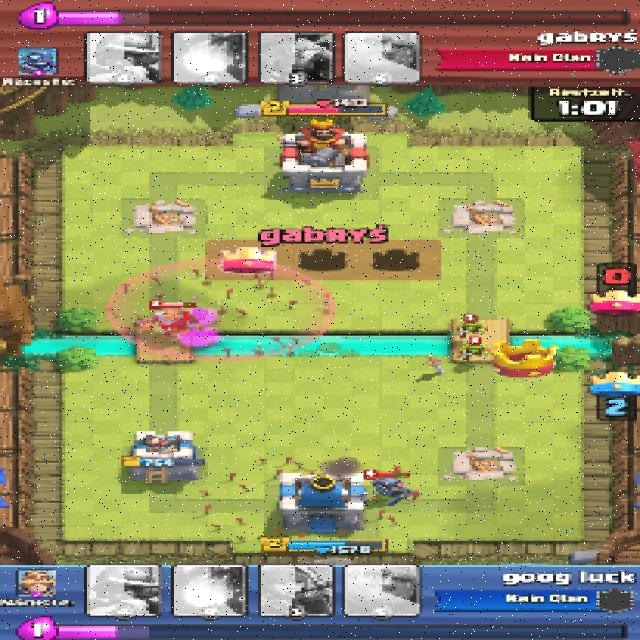Enemy-Arrow: (201, 456, 418, 544)
Enemy-Goblin: (455, 339, 495, 363), (446, 319, 490, 338)
Enemy-Knight: (132, 308, 198, 336)
Enemy-MiniPEKKA: (370, 474, 410, 508)
Player-Arrow: (103, 259, 334, 361)
